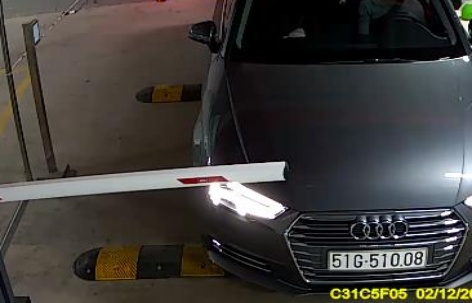plate: (324, 242, 430, 272)
